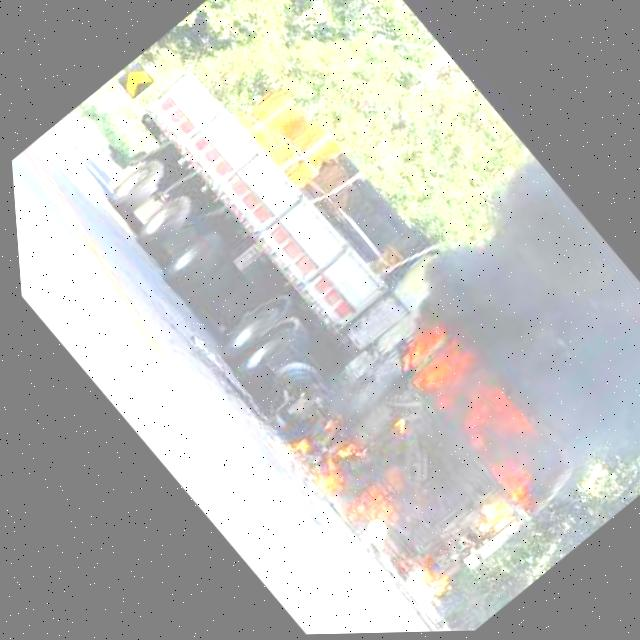Fire: (373, 296, 591, 523), (384, 316, 575, 524), (259, 403, 378, 517), (322, 468, 418, 555), (335, 467, 425, 550), (377, 534, 461, 617), (400, 551, 456, 611), (302, 460, 347, 503), (328, 440, 362, 471), (274, 434, 308, 465)
Smoke: (374, 149, 640, 525)
